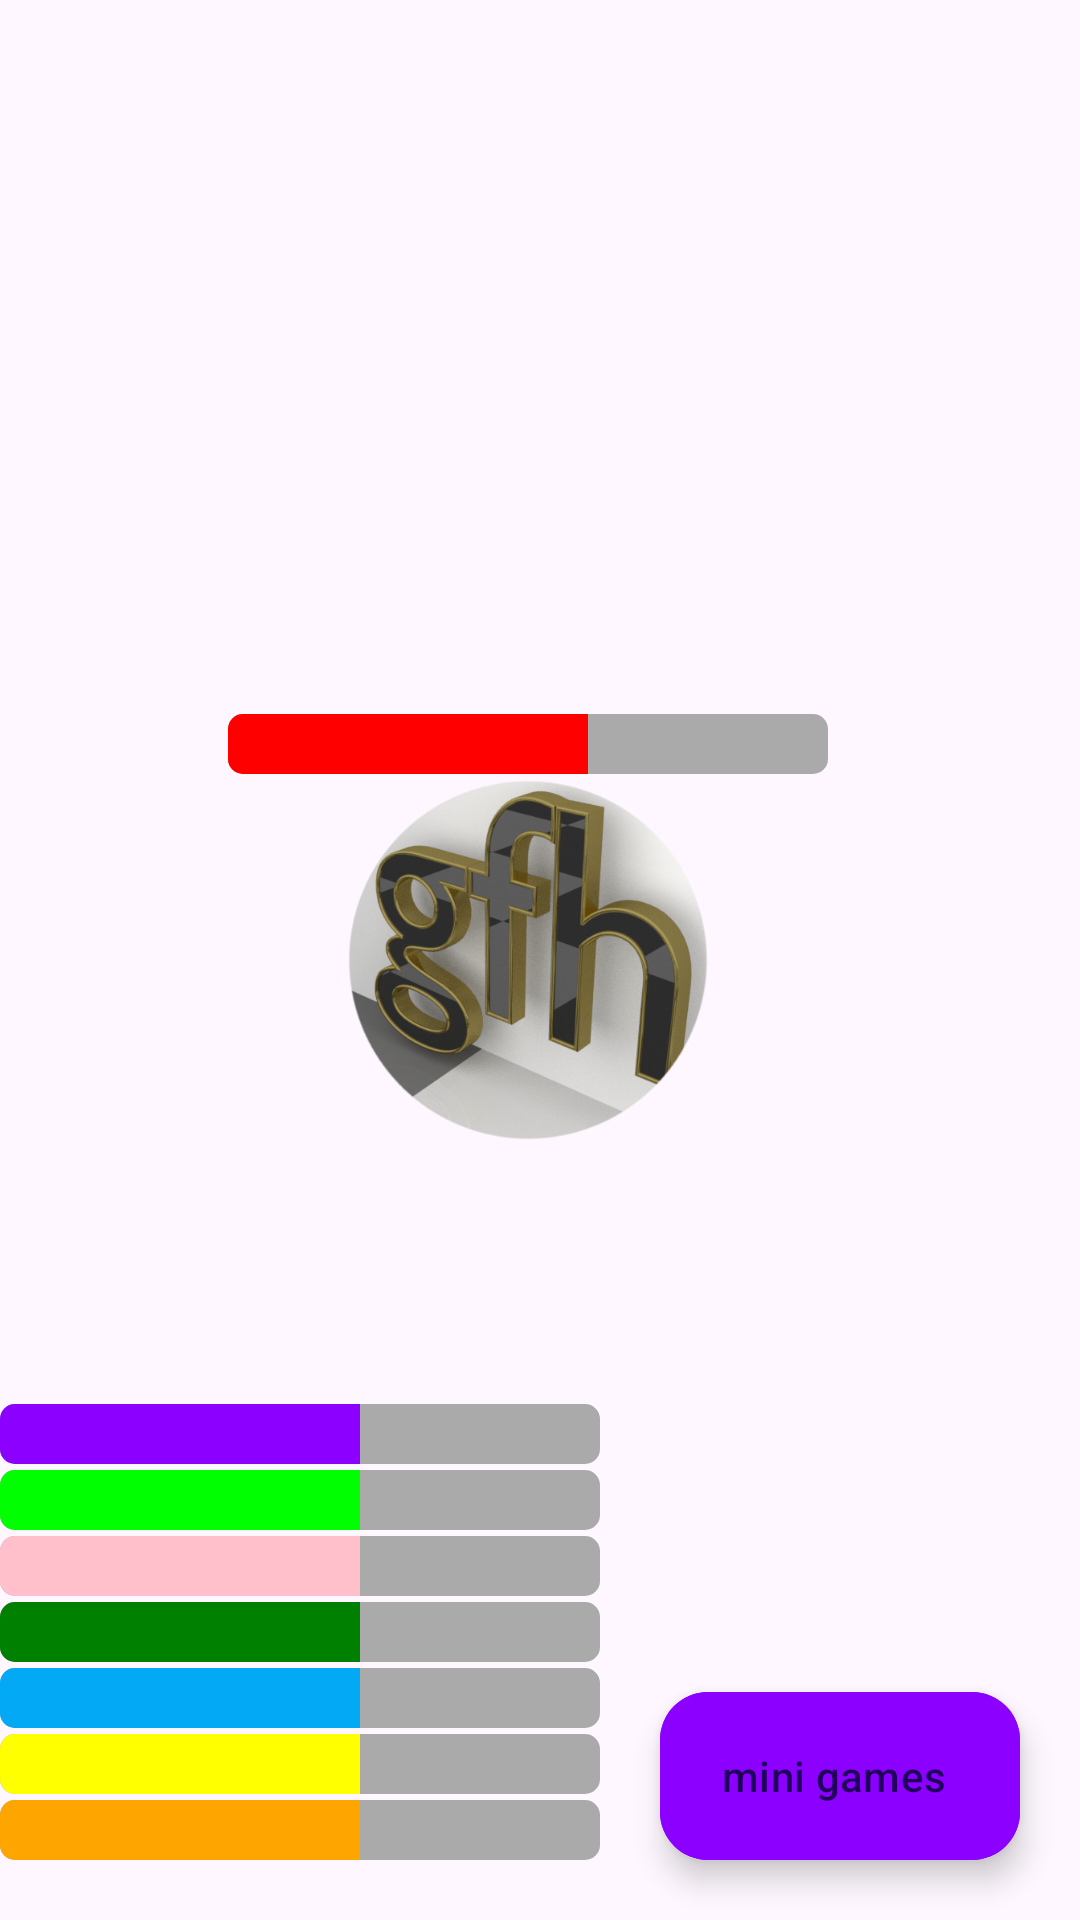

Icons on this 1080 × 1920 Android screen, each with its box as bbox=[x1, y1, x2, y2]:
mainhero: bbox=[349, 782, 707, 1139]
